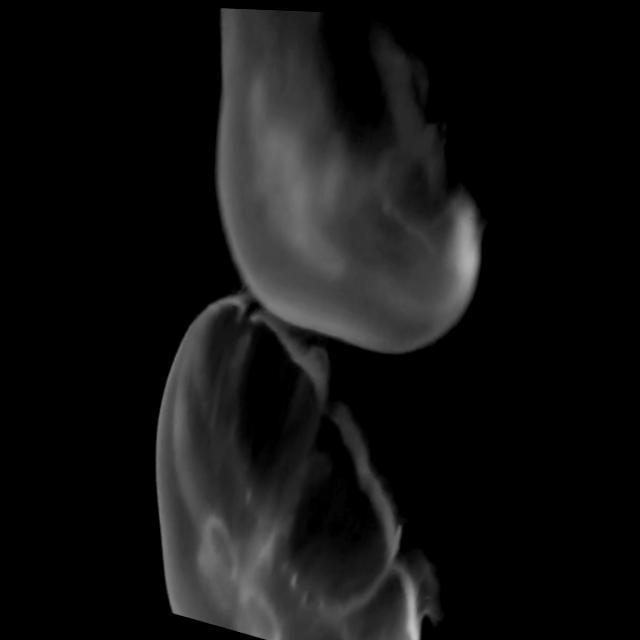Moon-jellyfish: (149, 286, 425, 640), (213, 6, 483, 350)
